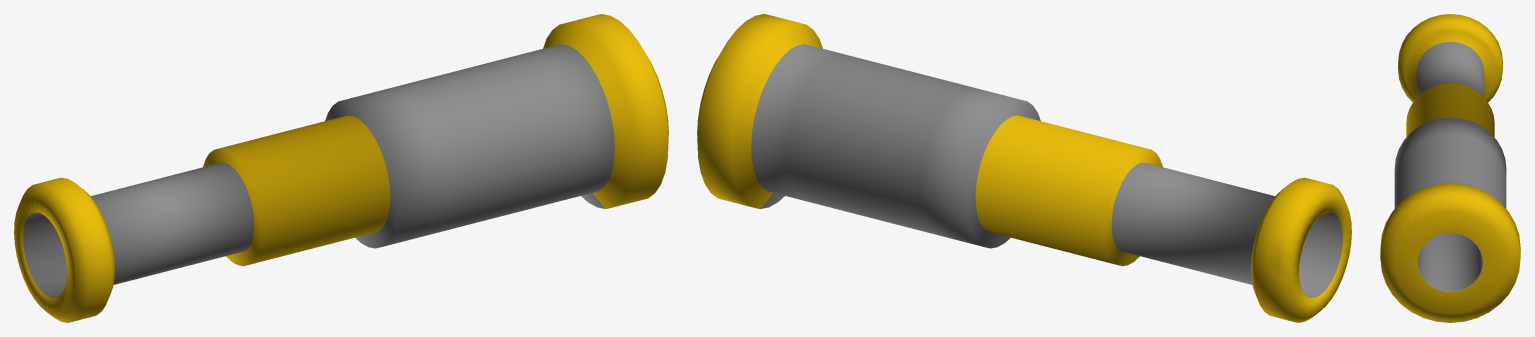
The model's file is Telescope.glb.
The picture shows the model from 3 angles, left to right: view 1: azimuth 30°, elevation 25°; view 2: azimuth 150°, elevation 25°; view 3: azimuth 270°, elevation 25°; orthographic projection. The views are drawn at different scales.
Parts seen in each view (by area): view 1: Telescope; view 2: Telescope; view 3: Telescope.
Boxes of the visible parts, <box> form: Telescope: <box>14,14,668,322</box>; Telescope: <box>697,14,1351,322</box>; Telescope: <box>1380,14,1520,322</box>.
Bounding box in the file's own units: 3.52 × 0.9954 × 0.9929.
